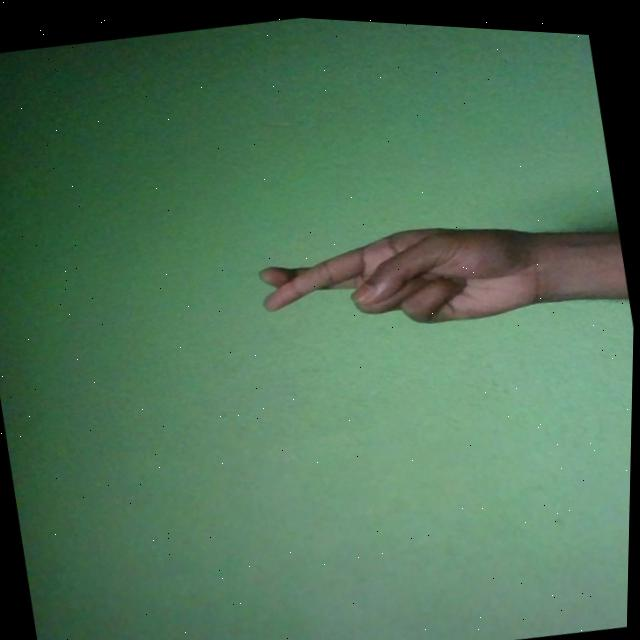Good Luck: (253, 191, 562, 353)
